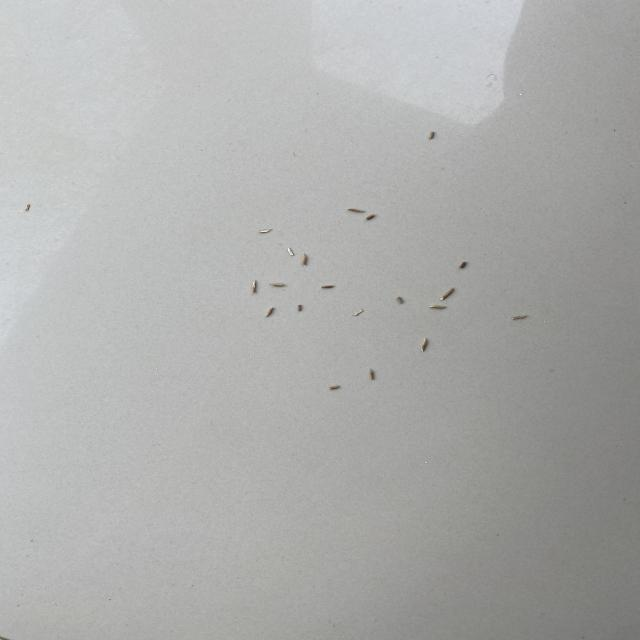Wereng: (419, 335, 438, 357), (438, 287, 461, 303), (260, 305, 284, 320), (343, 202, 368, 216), (363, 365, 381, 384), (505, 311, 536, 322), (345, 306, 368, 319), (323, 382, 346, 395), (394, 294, 412, 310), (428, 302, 456, 312), (250, 280, 266, 297), (282, 244, 298, 260), (424, 127, 440, 142), (319, 282, 342, 292), (18, 200, 35, 213), (269, 279, 287, 291), (257, 224, 274, 236), (302, 252, 314, 269), (296, 304, 310, 317), (452, 260, 470, 270), (366, 213, 380, 224)
